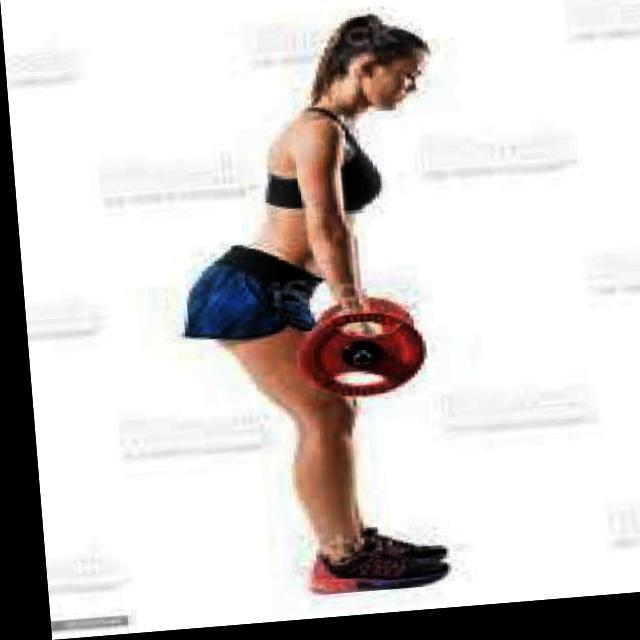barbell: (289, 309, 426, 413)
